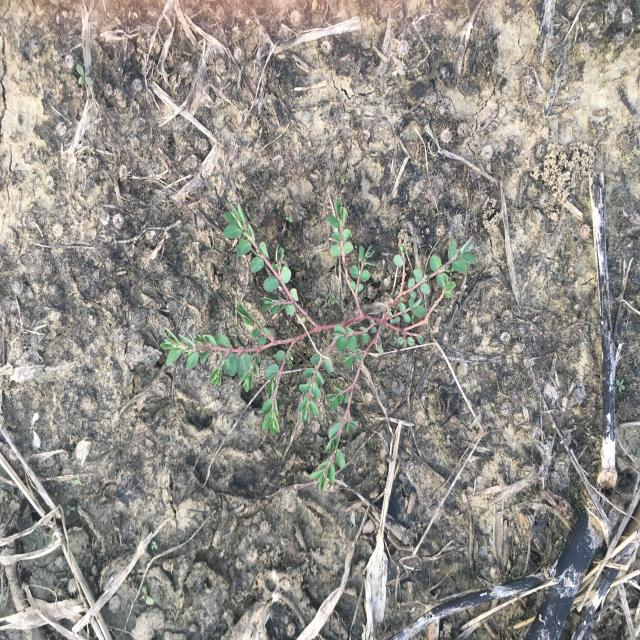SpottedSpurge: (159, 197, 478, 493)
